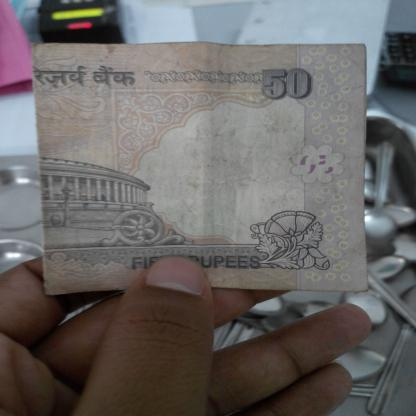Old50Back: (32, 42, 367, 294)
